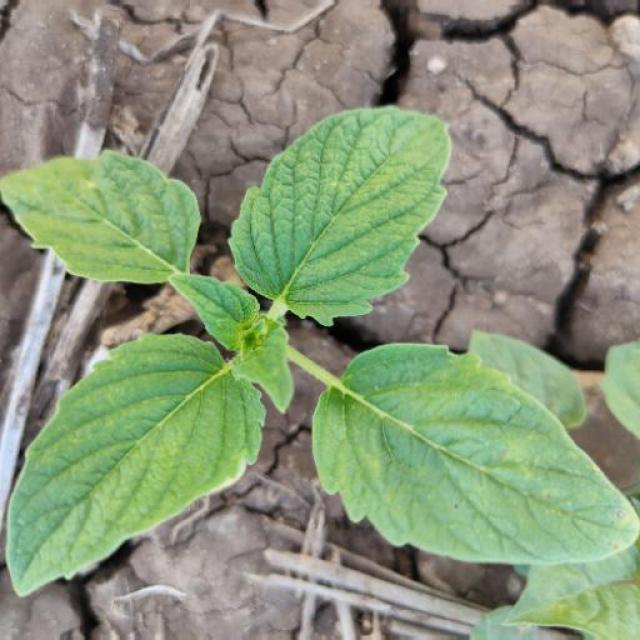crop: (1, 101, 631, 596)
